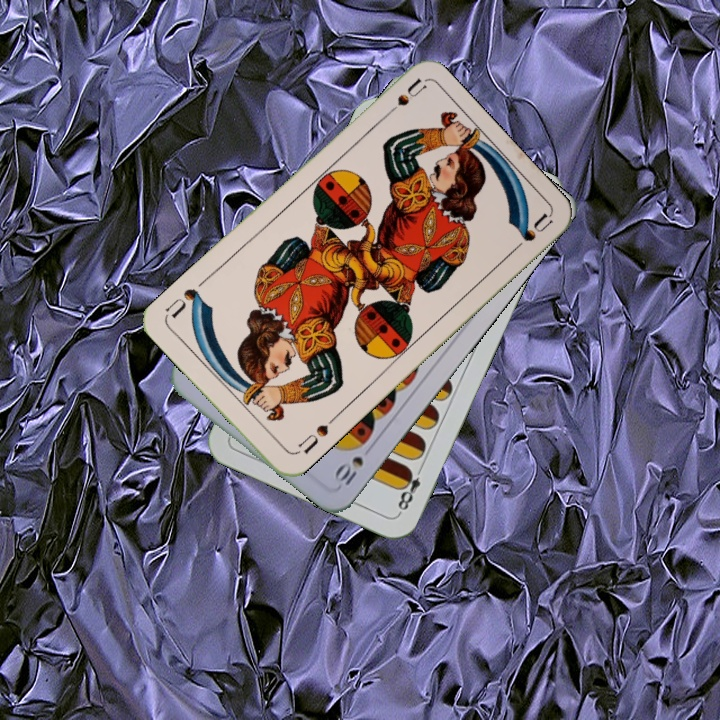E8: (393, 461, 427, 516)
S10: (329, 440, 376, 491)
SU: (377, 75, 428, 123), (291, 412, 339, 457)
